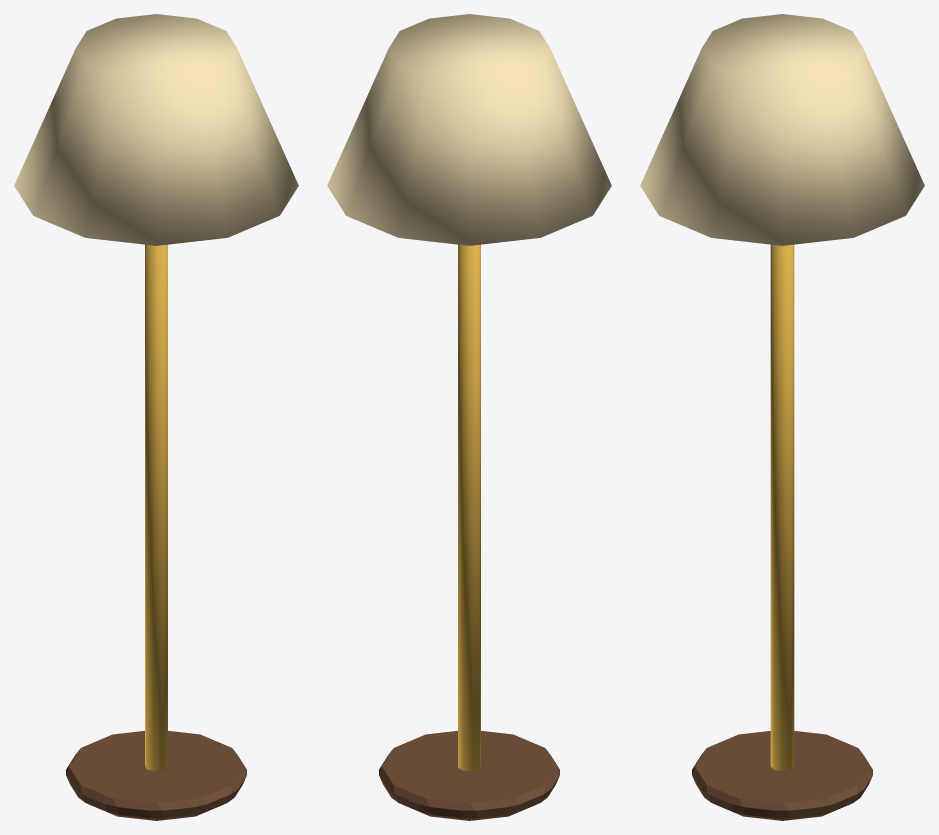
Rendered from lamp.glb.
3 views of the same model, side by side, from view 1: azimuth 30°, elevation 25°; view 2: azimuth 150°, elevation 25°; view 3: azimuth 270°, elevation 25° (orthographic).
Parts seen in each view (by area): view 1: lamp; view 2: lamp; view 3: lamp.
Boxes of the visible parts, x1,y1,x2,y2 form: lamp: (14,14,298,820); lamp: (327,14,611,820); lamp: (640,14,924,820).
Size of the model in its own units: 0.6 by 1.72 by 0.6.
